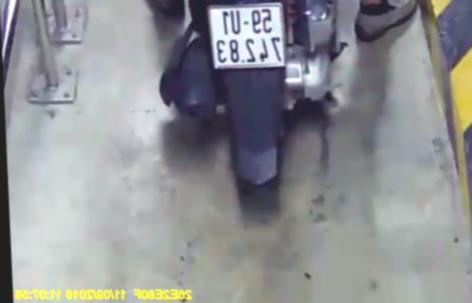License_Plate: (205, 1, 293, 74)
